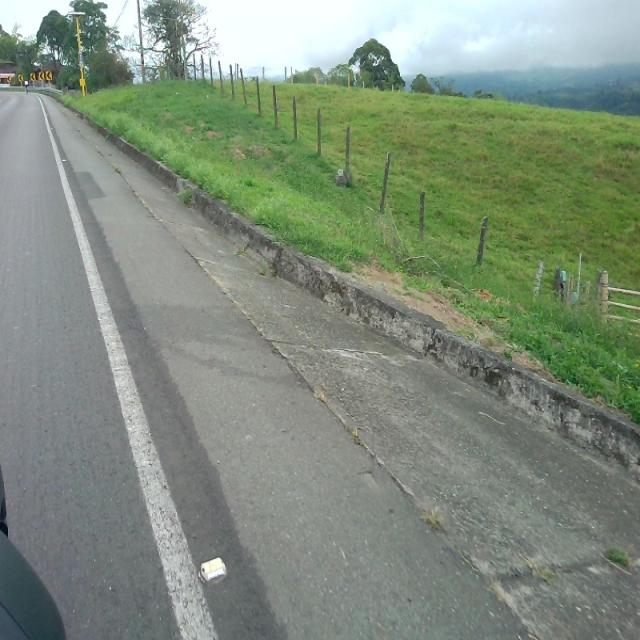DITCH: (16, 63, 638, 638), (17, 89, 638, 638)
